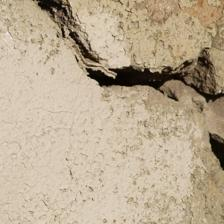Crack: (44, 7, 222, 102)
